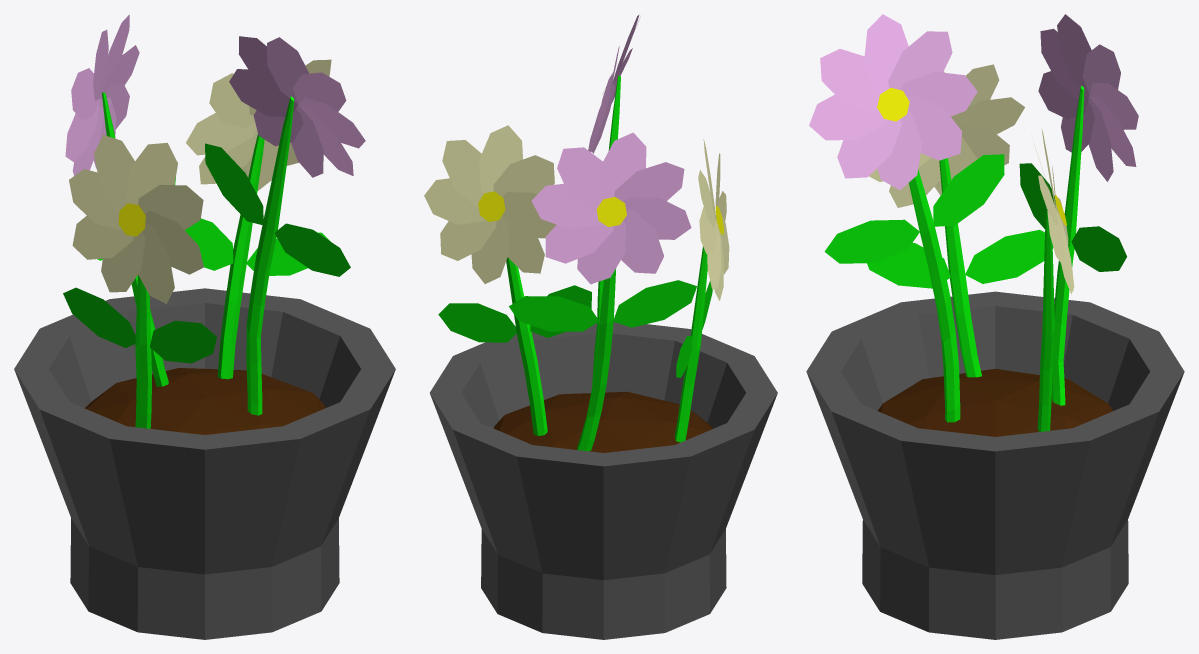
File: flowers.glb
3 renders of one model, left to right at view 1: azimuth 30°, elevation 25°; view 2: azimuth 150°, elevation 25°; view 3: azimuth 270°, elevation 25°, orthographic. The views are drawn at different scales.
Parts seen in each view (by area): view 1: Cylinder.002, Flower.001, Flower.002, Flower, Icosphere.001, Flower.003; view 2: Cylinder.002, Flower.003, Flower, Icosphere.001, Flower.001, Flower.002; view 3: Cylinder.002, Flower.002, Flower.003, Flower.001, Icosphere.001, Flower.
Part boxes in pixels (x1,y1,x2,y2): Cylinder.002: (14, 288, 395, 639); Flower.001: (63, 134, 216, 428); Flower.002: (205, 36, 365, 415); Flower: (185, 59, 331, 379); Icosphere.001: (85, 368, 325, 434); Flower.003: (65, 14, 175, 386); Cylinder.002: (430, 322, 777, 639); Flower.003: (509, 132, 696, 451); Flower: (424, 125, 591, 435); Icosphere.001: (493, 391, 713, 452); Flower.001: (674, 139, 729, 442); Flower.002: (588, 14, 640, 384); Cylinder.002: (806, 291, 1184, 639); Flower.002: (809, 14, 1004, 422); Flower.003: (1019, 14, 1138, 405); Flower.001: (867, 64, 1053, 377); Icosphere.001: (877, 369, 1113, 436); Flower: (1034, 129, 1074, 431).
Bounding box in the file's own units: 0.2207 × 0.3707 × 0.2199.
Materials: 1 (1 with a texture image).
